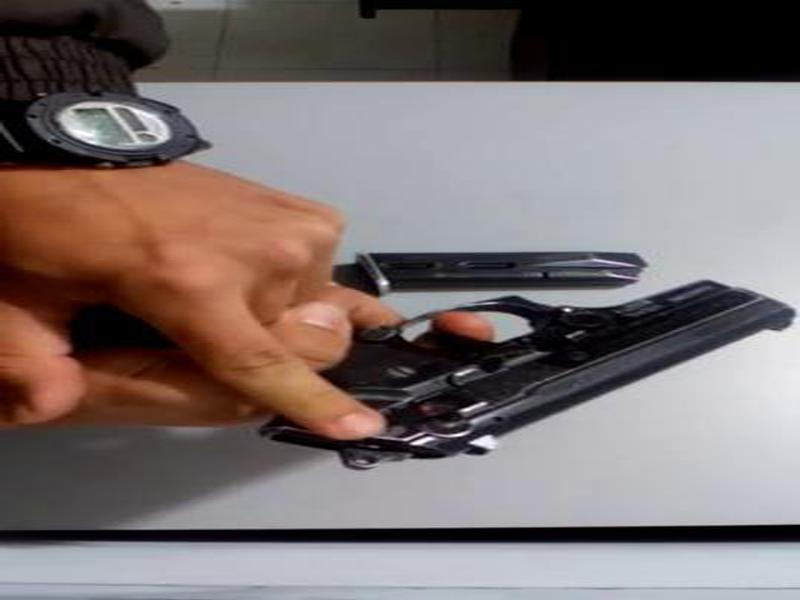Pistola: (261, 270, 791, 463)
